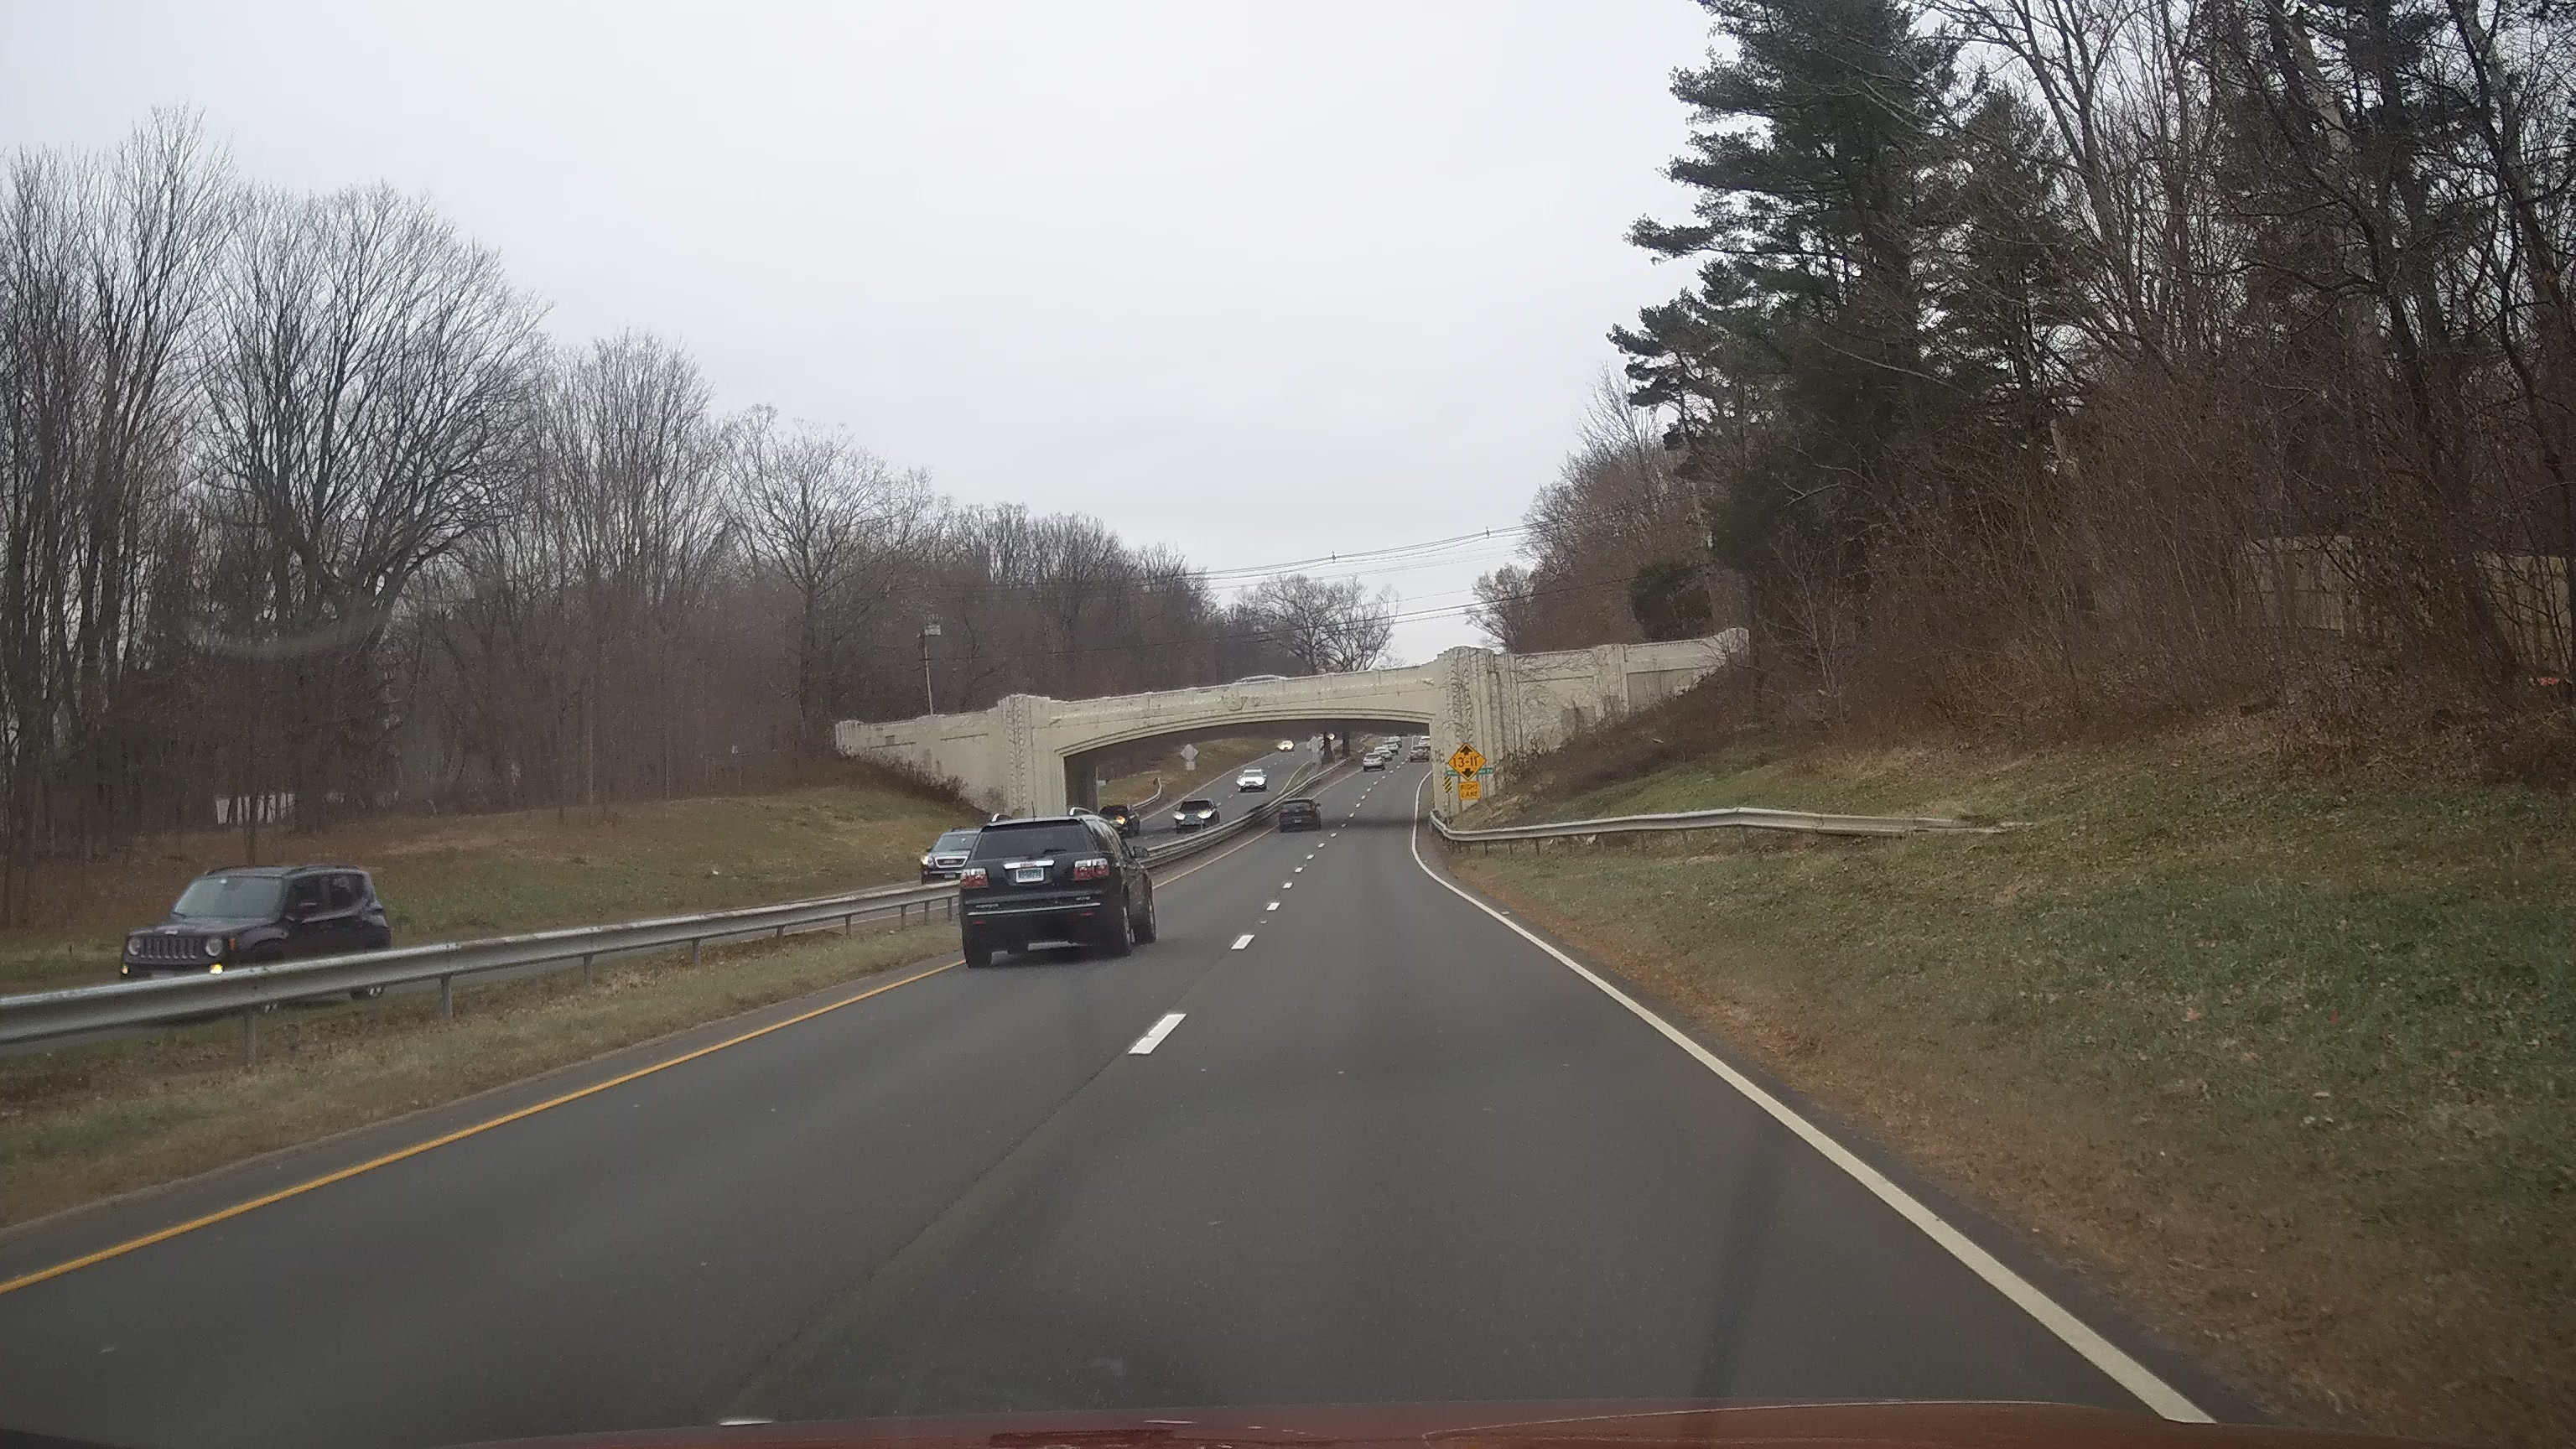low-clearance-sign: (1447, 741, 1488, 780)
